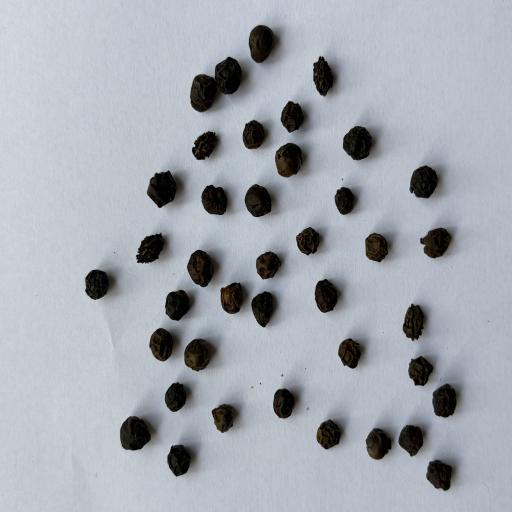Black_pepper: (114, 414, 151, 452), (272, 141, 304, 181), (145, 170, 177, 209), (419, 226, 453, 262), (185, 249, 215, 289), (242, 182, 274, 219), (214, 56, 243, 95), (430, 380, 458, 420), (187, 74, 216, 112), (180, 338, 212, 372), (343, 126, 374, 161), (409, 167, 440, 201), (82, 266, 110, 302), (426, 459, 454, 495), (148, 326, 173, 366), (249, 24, 275, 62), (402, 301, 426, 342), (200, 184, 228, 219), (218, 280, 245, 316), (397, 422, 424, 458), (337, 335, 363, 372), (250, 288, 274, 328), (315, 417, 342, 452), (362, 229, 388, 265), (364, 428, 392, 461), (254, 249, 282, 280), (314, 278, 338, 313), (165, 290, 192, 321), (165, 444, 191, 476), (279, 101, 304, 133), (272, 386, 295, 420), (332, 186, 356, 218), (295, 225, 319, 256), (163, 381, 187, 412), (211, 403, 235, 433), (409, 356, 431, 387), (242, 120, 264, 150)
papaya_seed: (309, 50, 353, 104), (132, 226, 174, 274), (191, 128, 226, 164)
